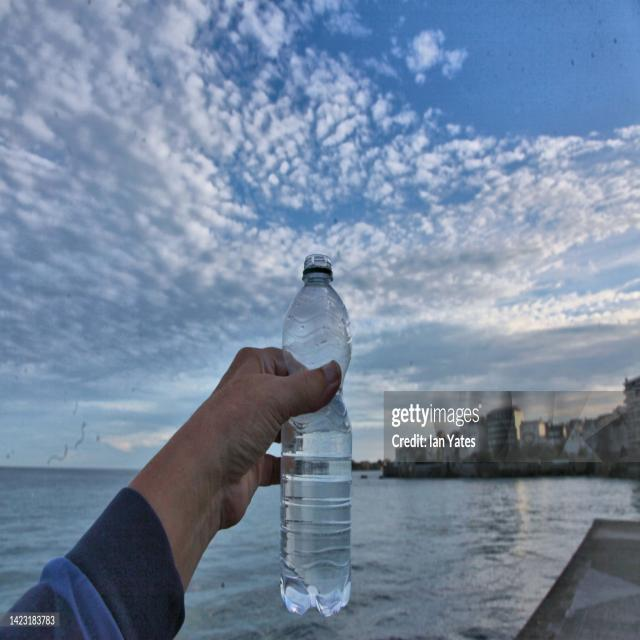bottle: (278, 260, 354, 616)
